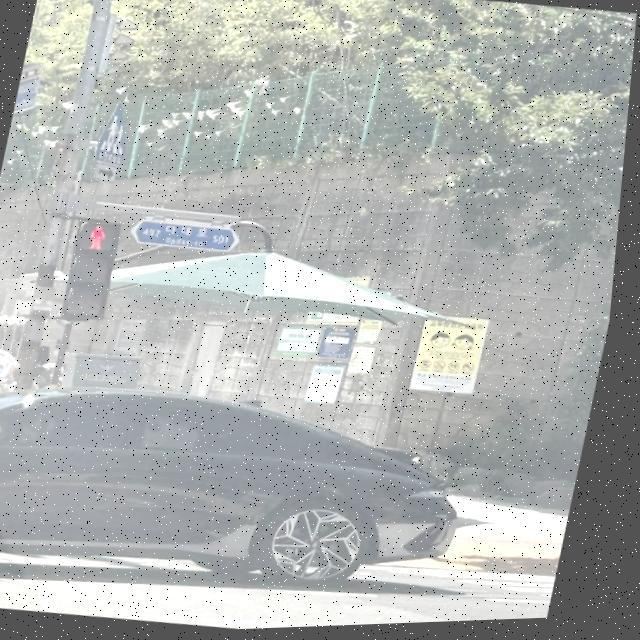red_light: (78, 220, 120, 258)
